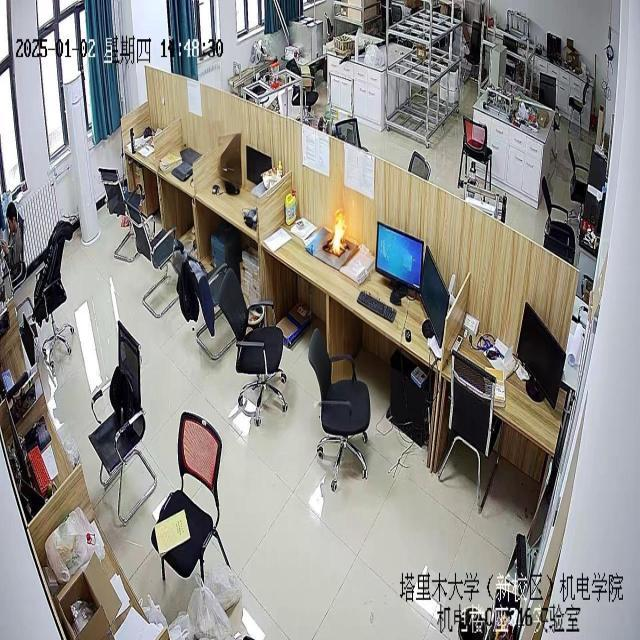smoke: (328, 204, 348, 256)
